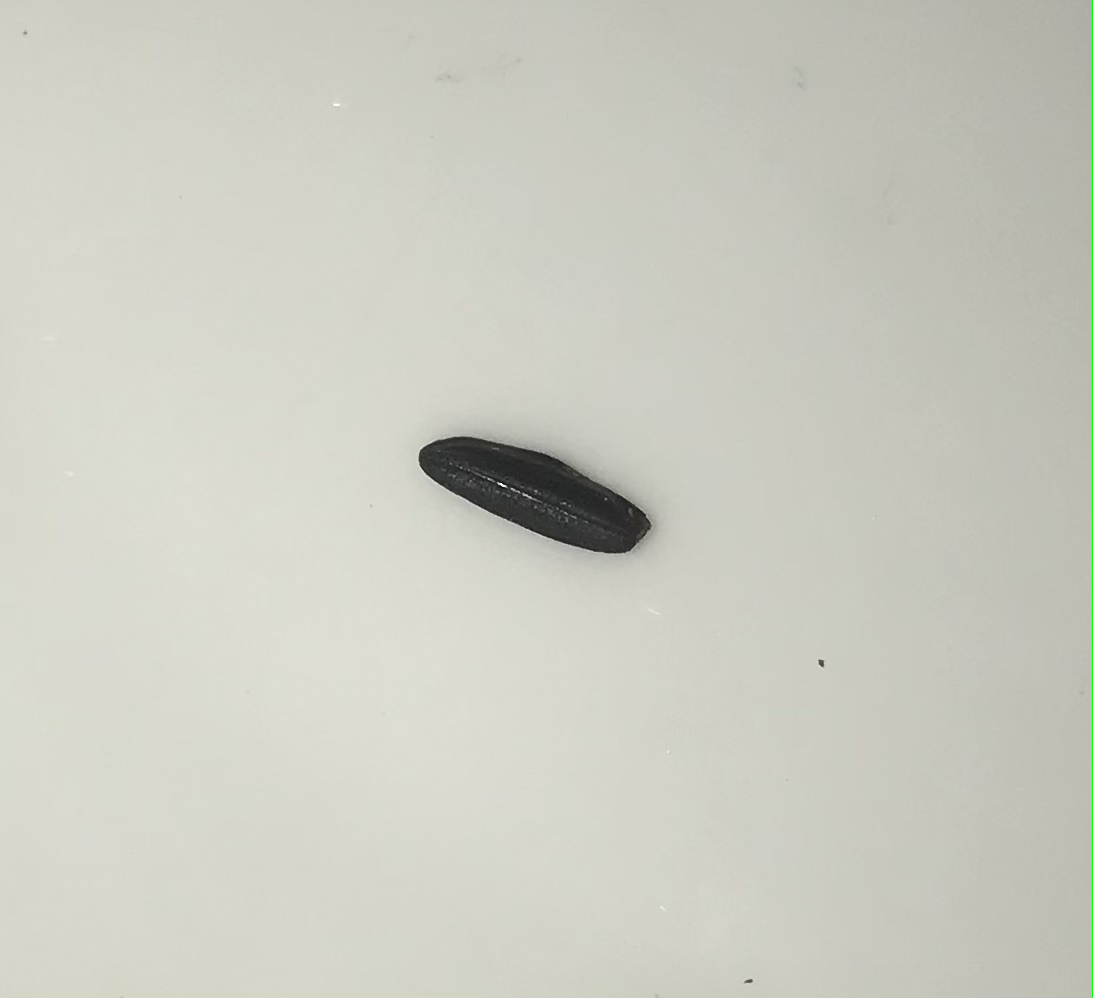Gao Nep Cam: (417, 414, 663, 572)
